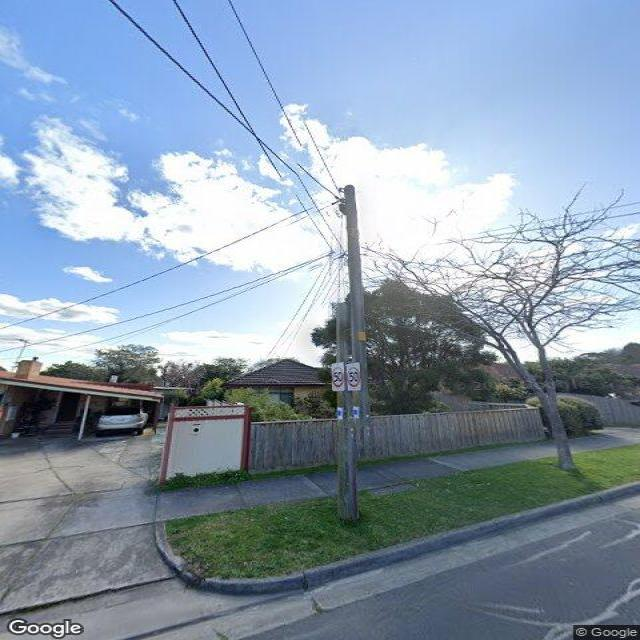timber-pole: (335, 184, 367, 520)
